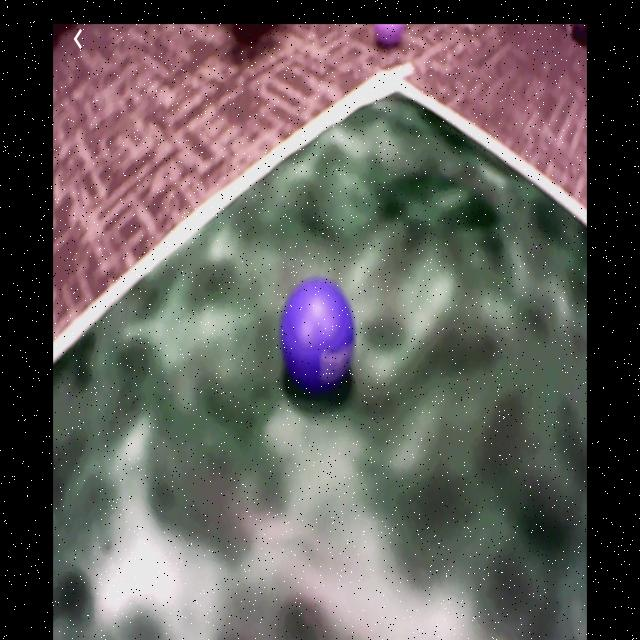ball: (282, 280, 358, 390), (373, 26, 409, 48)
